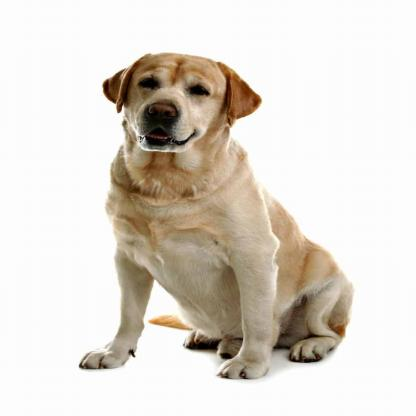Labarador Retriever: (75, 55, 356, 381)
